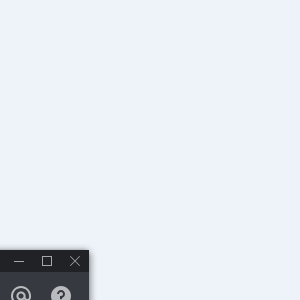close: (63, 250, 87, 271)
